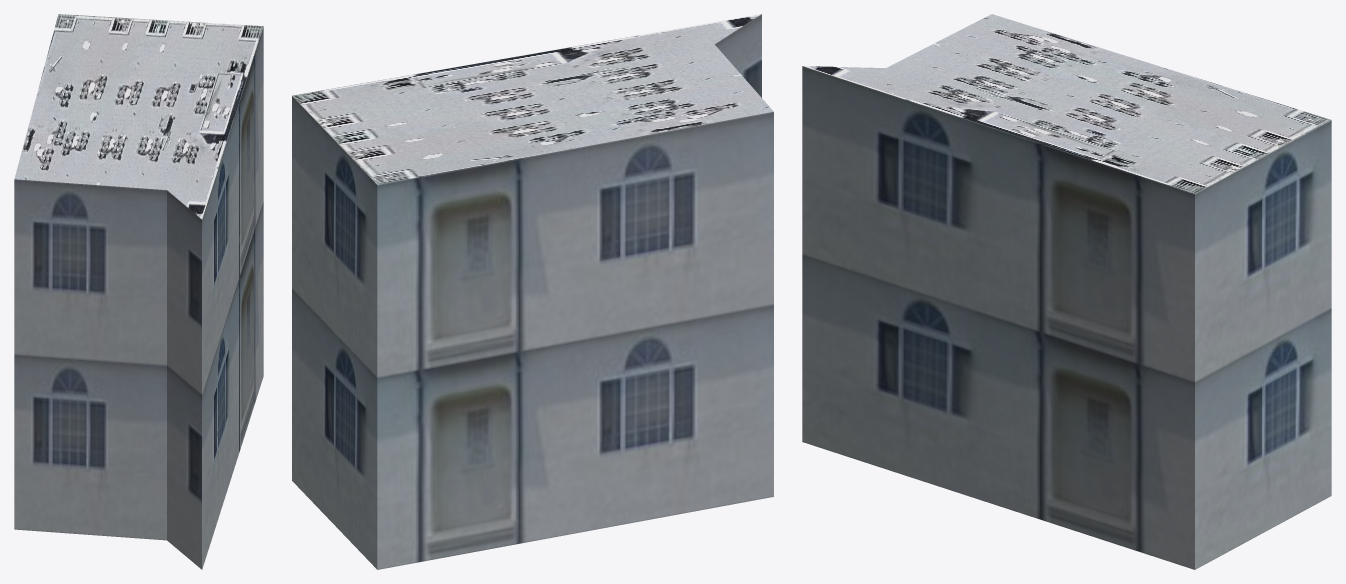
Rendered from ResTex__3665.fbx.
The picture shows the model from 3 angles, left to right: view 1: azimuth 30°, elevation 25°; view 2: azimuth 150°, elevation 25°; view 3: azimuth 270°, elevation 25°; orthographic projection. The views are drawn at different scales.
Visible parts, largest first — view 1: CityEngineMaterial_17_m, CityEngineMaterial_8_m; view 2: CityEngineMaterial_17_m, CityEngineMaterial_8_m; view 3: CityEngineMaterial_17_m, CityEngineMaterial_8_m.
Part boxes in pixels (x1=…): CityEngineMaterial_17_m: x1=14, y1=26, x2=263, y2=569; CityEngineMaterial_8_m: x1=14, y1=14, x2=263, y2=219; CityEngineMaterial_17_m: x1=292, y1=14, x2=773, y2=569; CityEngineMaterial_8_m: x1=292, y1=14, x2=773, y2=184; CityEngineMaterial_17_m: x1=802, y1=66, x2=1331, y2=569; CityEngineMaterial_8_m: x1=803, y1=14, x2=1330, y2=193.
Bounding box in the file's own units: 6.16 × 6 × 7.66.
2 materials, 2 textured.
